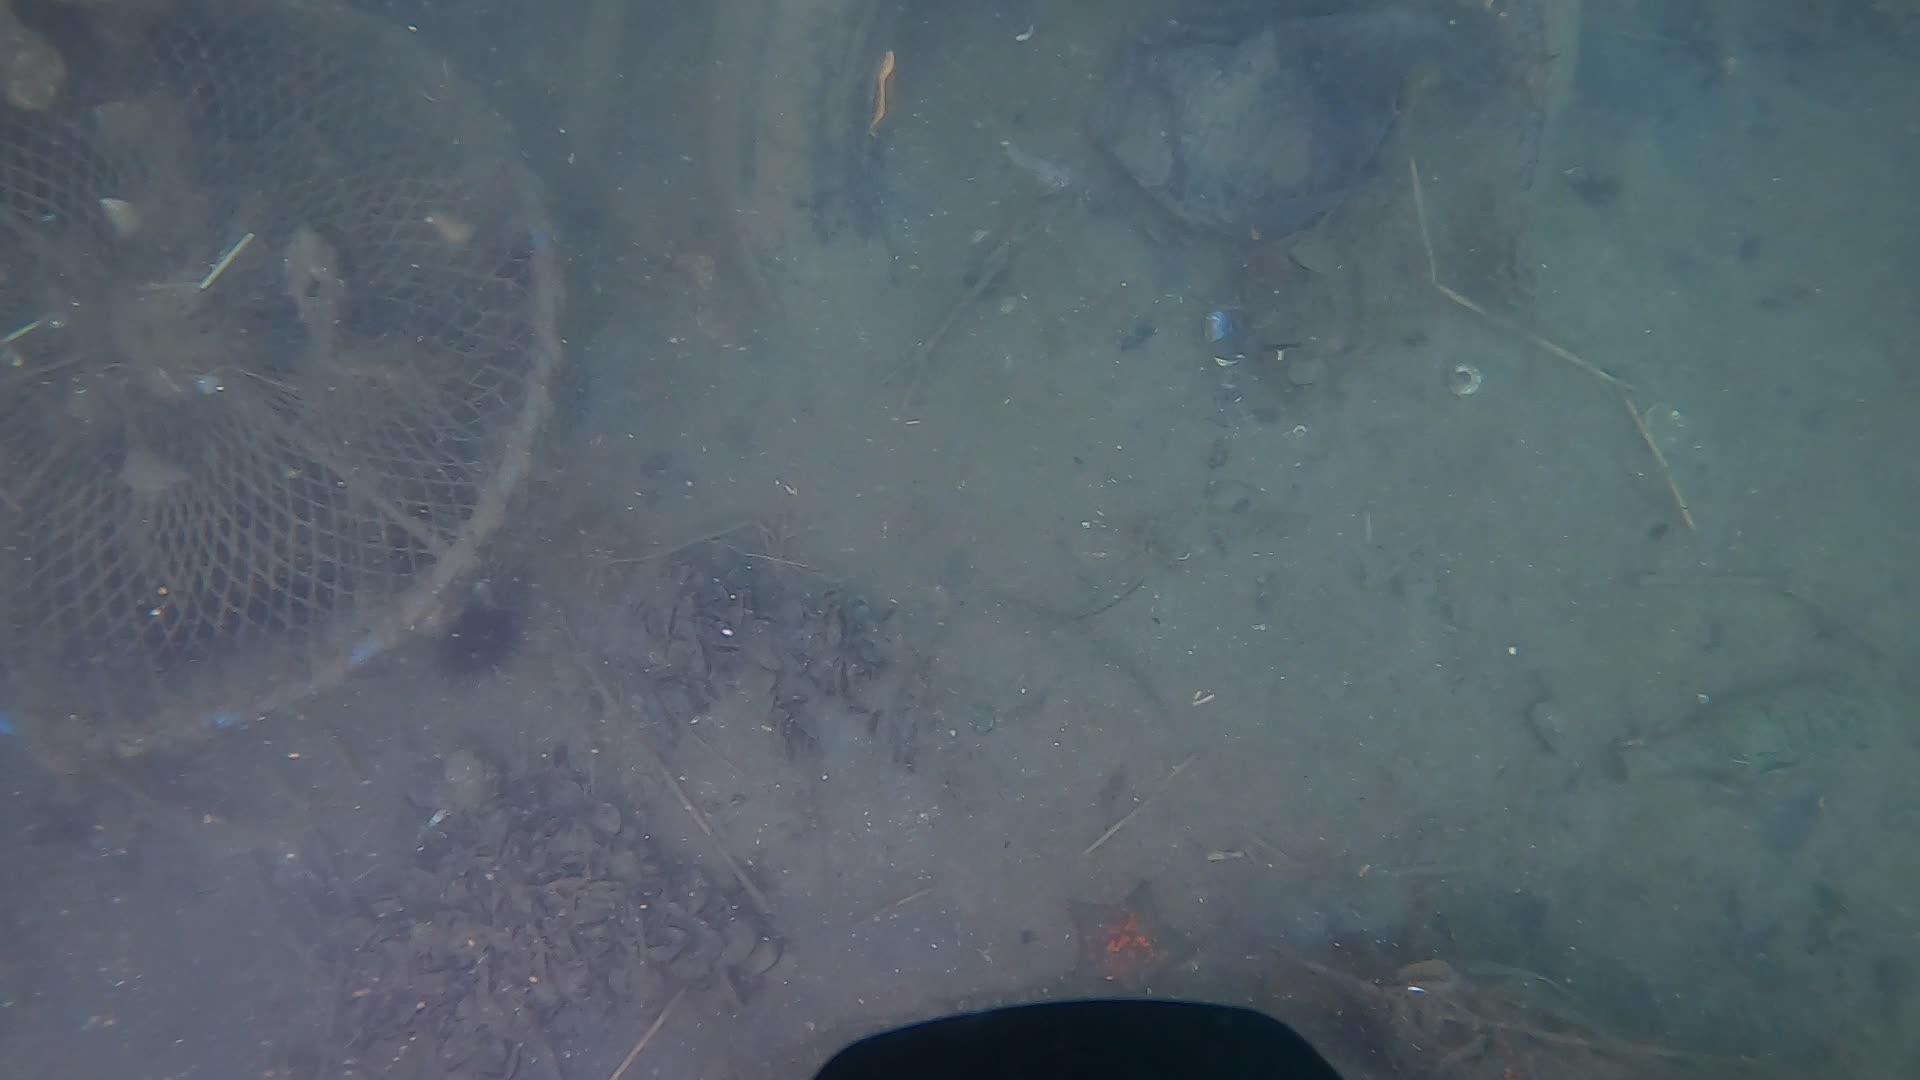circular fish trap: (0, 0, 564, 764)
